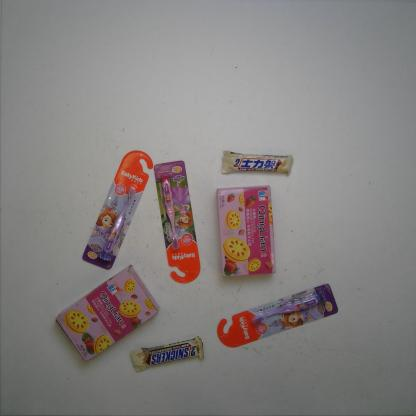Chocolate: (126, 334, 207, 378), (219, 149, 298, 179)
Dessert: (53, 260, 162, 367), (213, 184, 279, 278)
Personal Hygiene: (79, 149, 157, 274), (213, 279, 340, 350), (151, 159, 206, 287)
